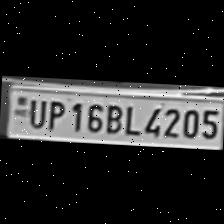0: (177, 104, 200, 136)
1: (64, 97, 84, 130)
2: (159, 104, 180, 136)
4: (138, 100, 163, 136)
5: (197, 102, 220, 138)
6: (82, 100, 104, 132)
B: (102, 99, 124, 134)
L: (121, 100, 141, 134)
P: (44, 96, 66, 130)
U: (24, 94, 46, 128)
